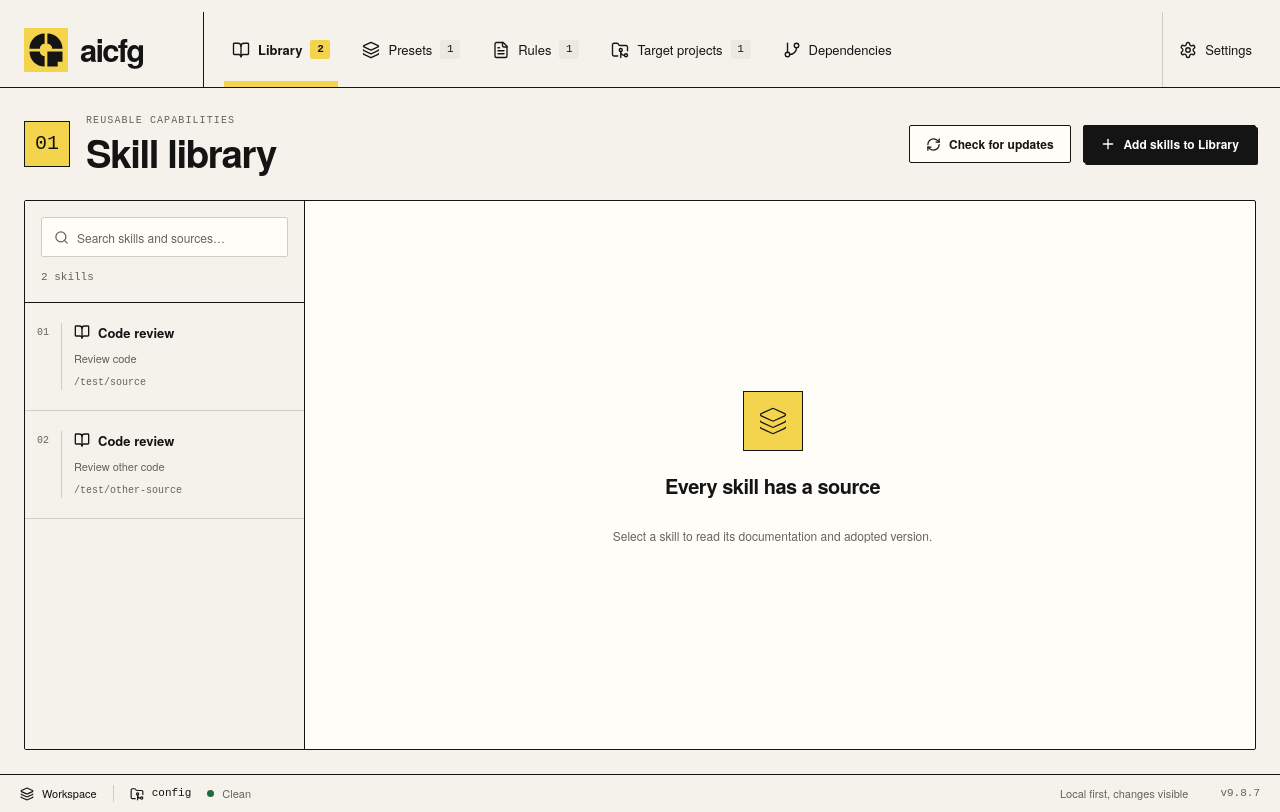
Scenario: Skill detail loading › shows read failures inside the detail panel and supports retrying
The width and height of the screenshot is (1280, 812).
Click the 1st button with class "row-main". click: (144, 356)
box: [25, 302, 264, 410]
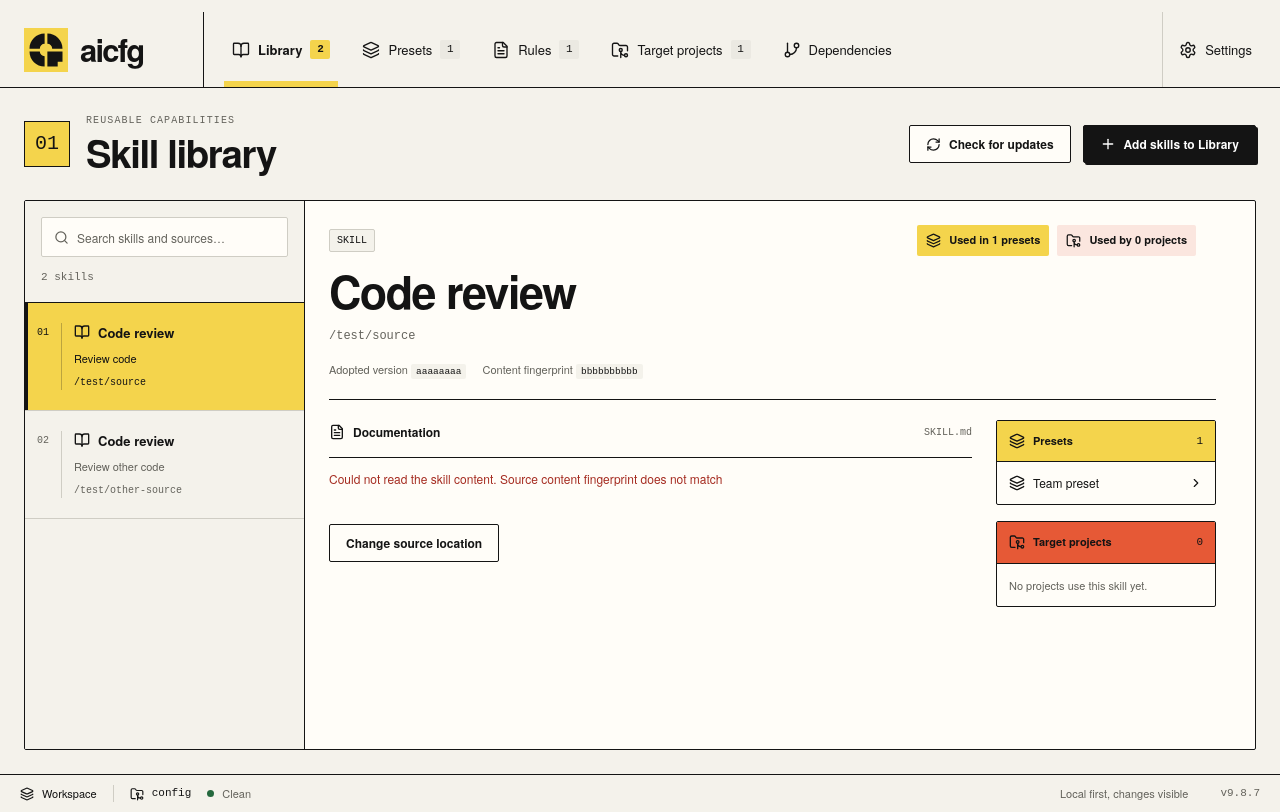
expect the message "Could not read the skill content. Source content fingerprint does not match" is shown: met, box [329, 470, 722, 487]
Click the 1st button with class "row-main". click: (144, 356)
box: [25, 302, 264, 410]
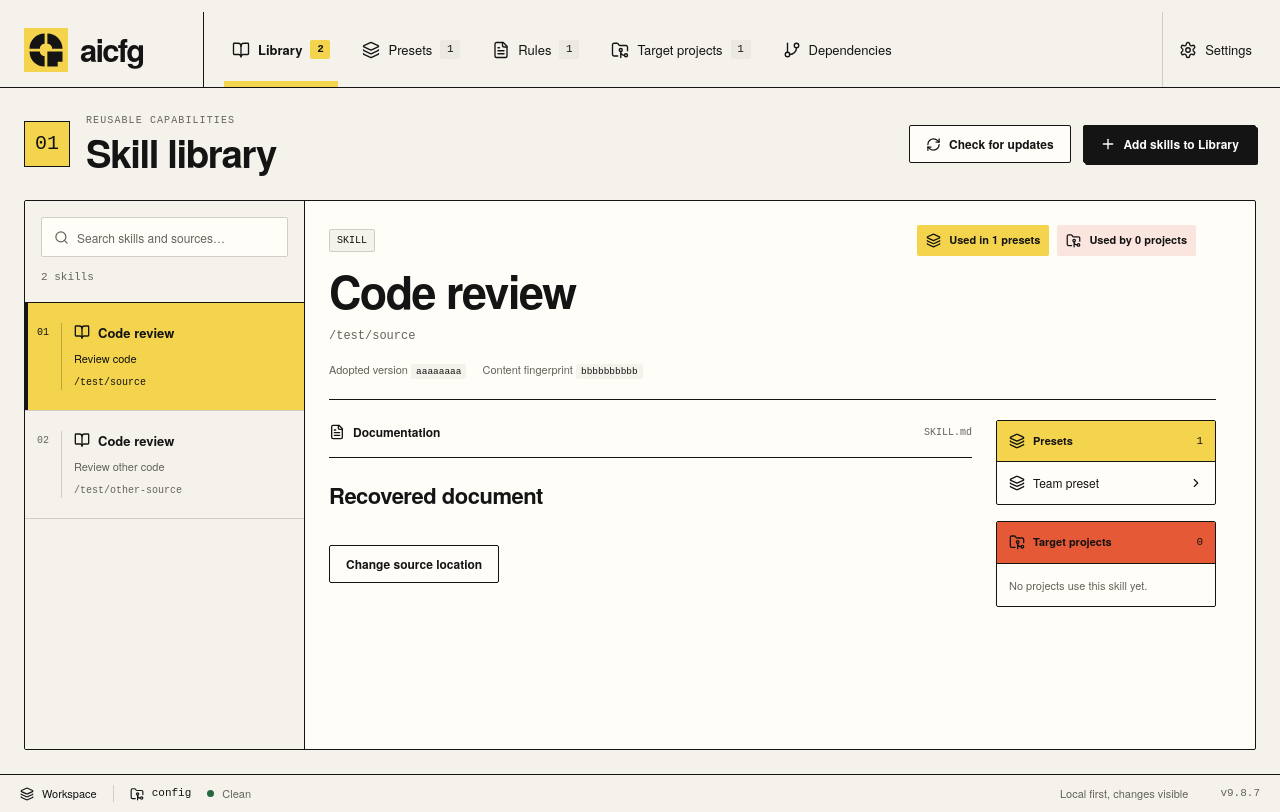
expect the message "Could not read the skill content. Source content fingerprint does not match" is gone: met
expect the element with class "markdown" reads "Recovered document": met, box [329, 479, 543, 511]
